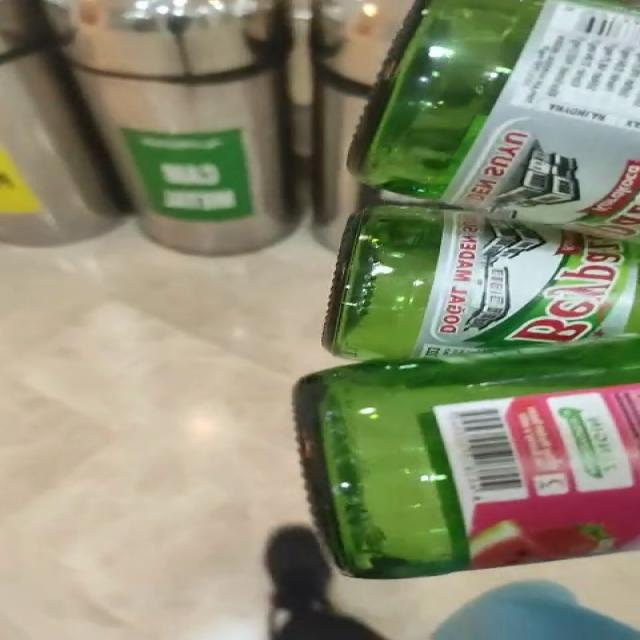glass: (295, 0, 640, 579)
